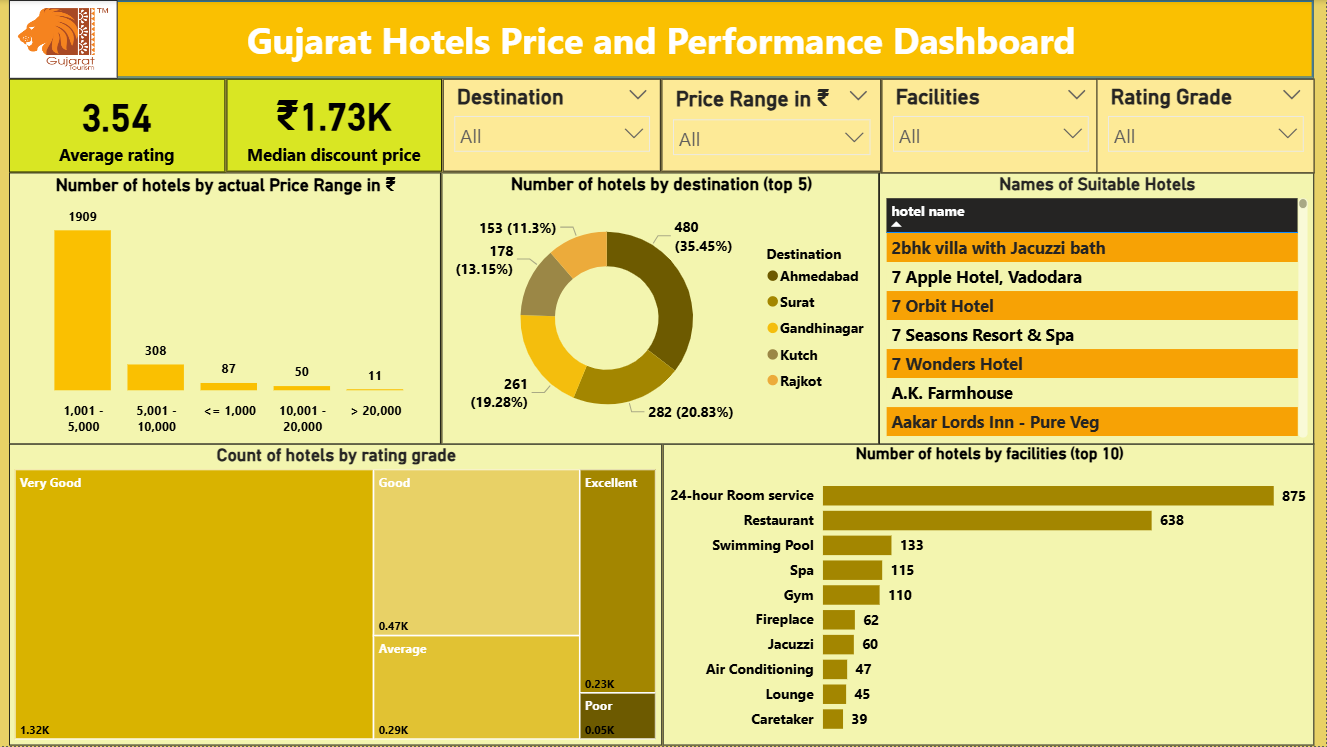

What the dashboard file says about the page in this screenshot:
{"tool":"powerbi","page":{"name":"Dashboard","canvas":[1280,720],"ordinal":0},"visuals":[{"type":"shape","box":[9.7,0,1259.5,76],"z":0},{"type":"clusteredColumnChart","title":"Number of hotels by actual Price Range in ₹","fields":{"Category":["final_hotel.Hotel Price Range"],"Y":["CountNonNull(final_hotel.hotel name)"]},"box":[10.1,165.9,417,262.6],"z":1000},{"type":"treemap","title":"Count of hotels by rating grade","fields":{"Group":["final_hotel.rating grade"],"Values":["CountNonNull(final_hotel.hotel name)"]},"box":[10.1,428.5,630.5,291.4],"z":2000},{"type":"clusteredBarChart","title":"Number of hotels by facilities (top 10)","fields":{"Category":["final_hotel.facilities"],"Y":["CountNonNull(final_hotel.hotel name)"]},"box":[640.6,428.5,629,291.4],"z":3000},{"type":"donutChart","title":"Number of hotels by destination (top 5)","fields":{"Category":["final_hotel.destination name"],"Y":["CountNonNull(final_hotel.hotel name)"]},"box":[427.1,165.9,422.7,262.6],"z":4000},{"type":"card","fields":{"Values":["final_hotel.Average rating"]},"box":[9.7,76,208.7,90.5],"z":5000},{"type":"card","fields":{"Values":["final_hotel.Median discount price"]},"box":[219.3,76.5,207.8,89.5],"z":6000},{"type":"tableEx","title":"Names of Suitable Hotels","fields":{"Values":["final_hotel.hotel name"]},"box":[849.8,165.9,419.8,262.6],"z":7000},{"type":"slicer","fields":{"Values":["final_hotel.destination name"]},"box":[428.5,76.5,210.6,89.5],"z":8000},{"type":"slicer","fields":{"Values":["final_hotel.Hotel Price Range"]},"box":[639.1,76.5,212.1,89.5],"z":9000},{"type":"slicer","fields":{"Values":["final_hotel.facilities"]},"box":[851.2,76.5,210.6,90.9],"z":10000},{"type":"slicer","fields":{"Values":["final_hotel.rating grade"]},"box":[1059,76.5,210.6,90.9],"z":11000},{"type":"image","box":[9.7,0,105,76],"z":12000}]}

Visuals, with their boxes in screenshot pixels (x1, y1, x2, y2), scaled from the page's 1280x720 canvas onto the 1327x747 screenshot:
shape: bbox=(10, 0, 1316, 79)
"Number of hotels by actual Price Range in ₹" clusteredColumnChart: bbox=(10, 172, 443, 445)
"Count of hotels by rating grade" treemap: bbox=(10, 445, 664, 746)
"Number of hotels by facilities (top 10)" clusteredBarChart: bbox=(664, 445, 1316, 746)
"Number of hotels by destination (top 5)" donutChart: bbox=(443, 172, 881, 445)
card - final_hotel.Average rating: bbox=(10, 79, 226, 173)
card - final_hotel.Median discount price: bbox=(227, 79, 443, 172)
"Names of Suitable Hotels" tableEx: bbox=(881, 172, 1316, 445)
slicer - final_hotel.destination name: bbox=(444, 79, 663, 172)
slicer - final_hotel.Hotel Price Range: bbox=(663, 79, 882, 172)
slicer - final_hotel.facilities: bbox=(882, 79, 1101, 174)
slicer - final_hotel.rating grade: bbox=(1098, 79, 1316, 174)
image: bbox=(10, 0, 119, 79)
